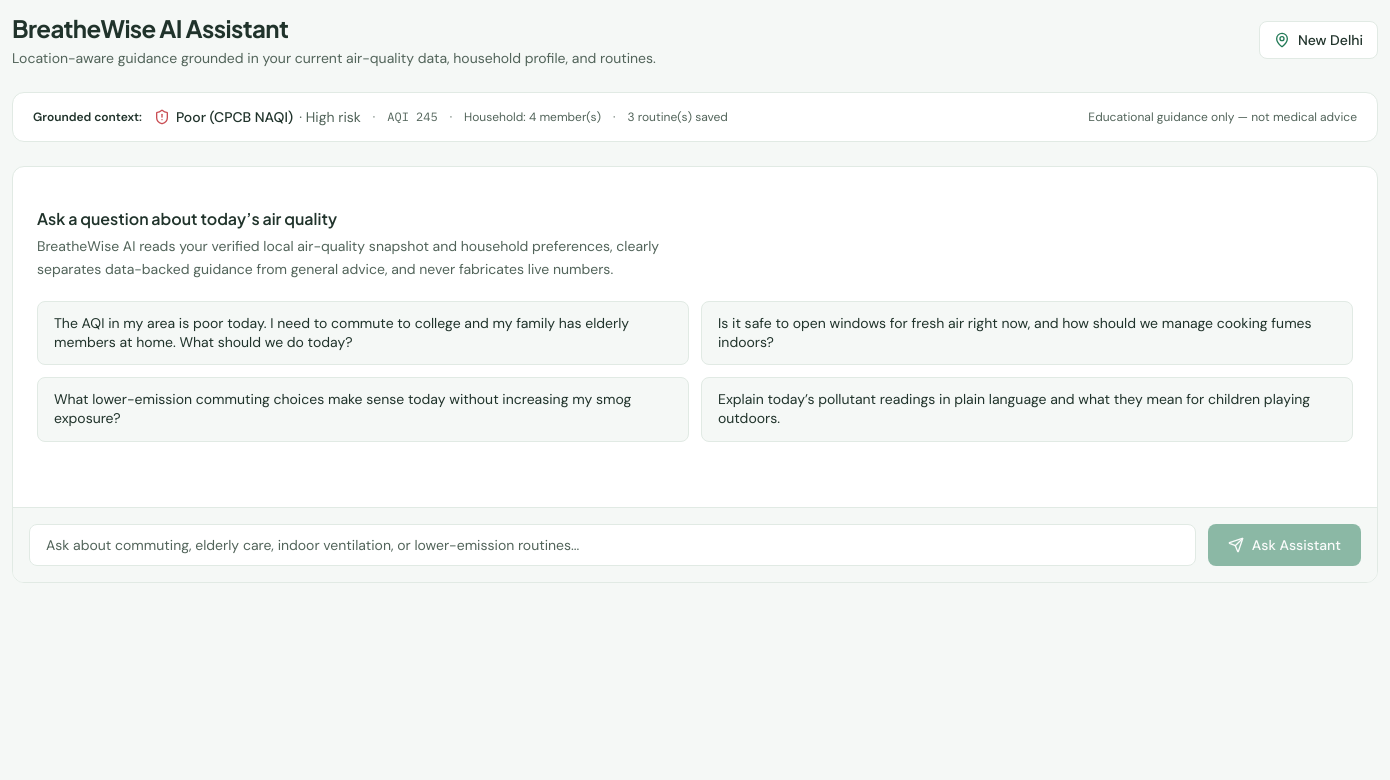
Page-level behavioral, accessibility, state, and error-boundary tests › AssistantPage enforces minimum query length, renders structured h3 headings without skipping h2, handles cancel/error, and clears chat
Check: the button "Ask Assistant" is disabled, box [1208,524,1361,566]
Type "Hi" into the field named "ask breathewise ai a question". click: (612, 545)
box: [29,524,1196,566]
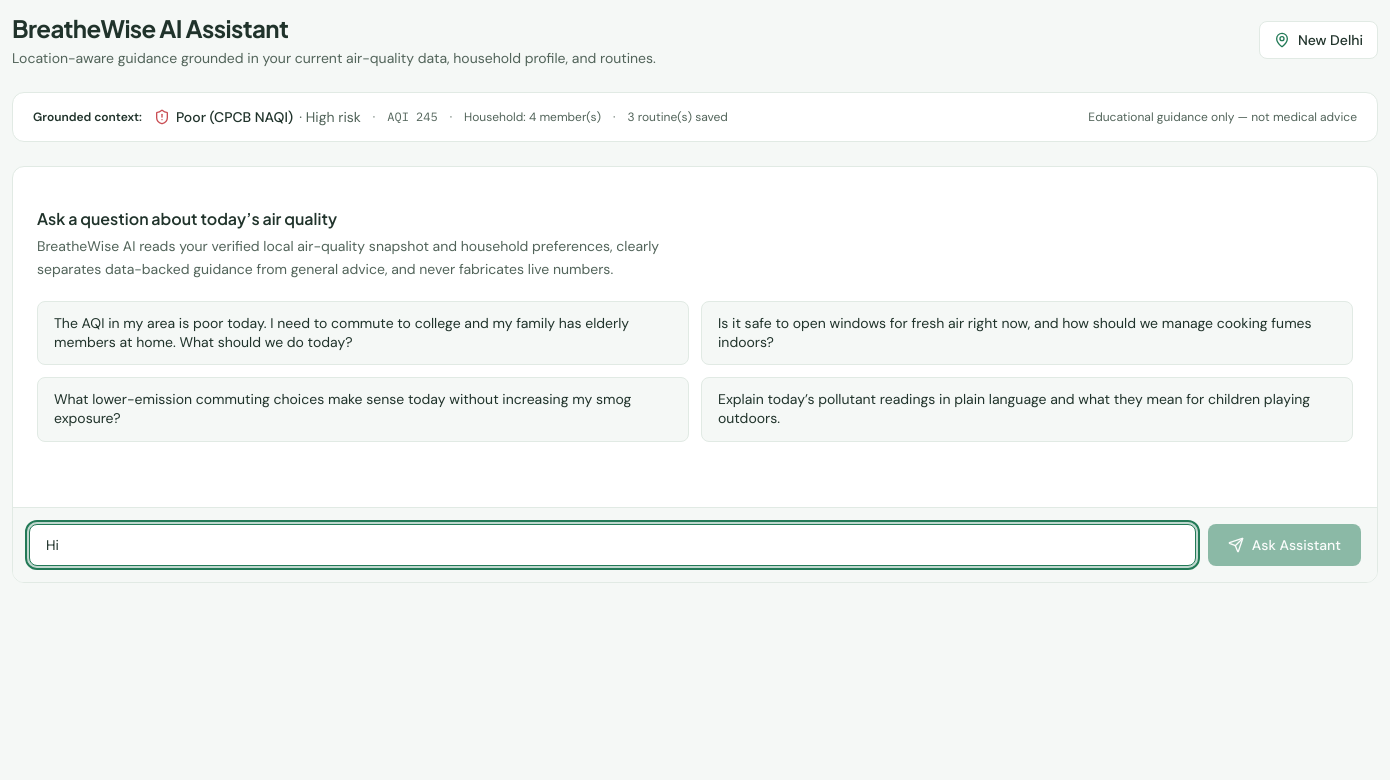
Check: the button "Ask Assistant" is disabled, box [1208,524,1361,566]
Replace the text in the field named "ask breathewise ai a question" with "Is it safe to commute by metro today?". click: (612, 545)
box: [29,524,1196,566]
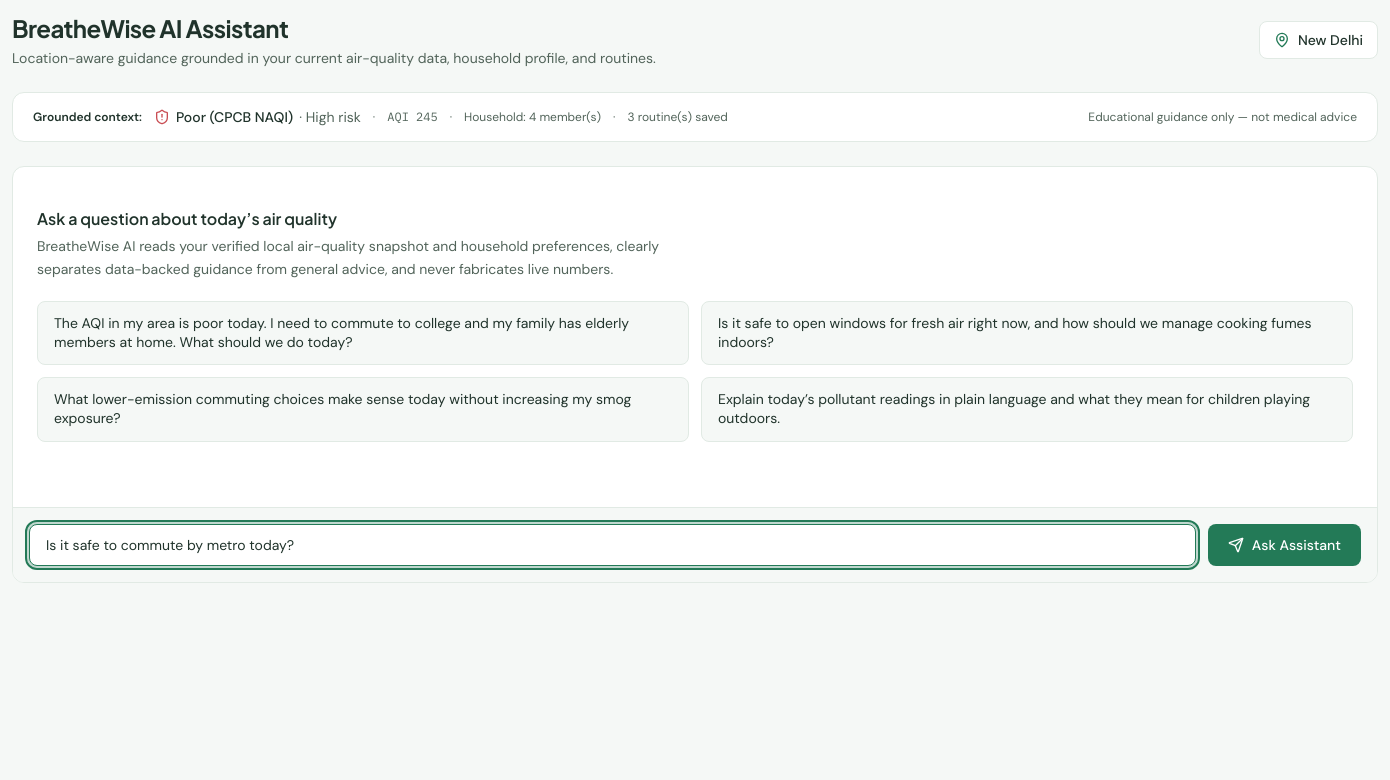
Check: the button "Ask Assistant" is enabled
Click the button "Ask Assistant". click: (1284, 545)
box: [1208,524,1361,566]
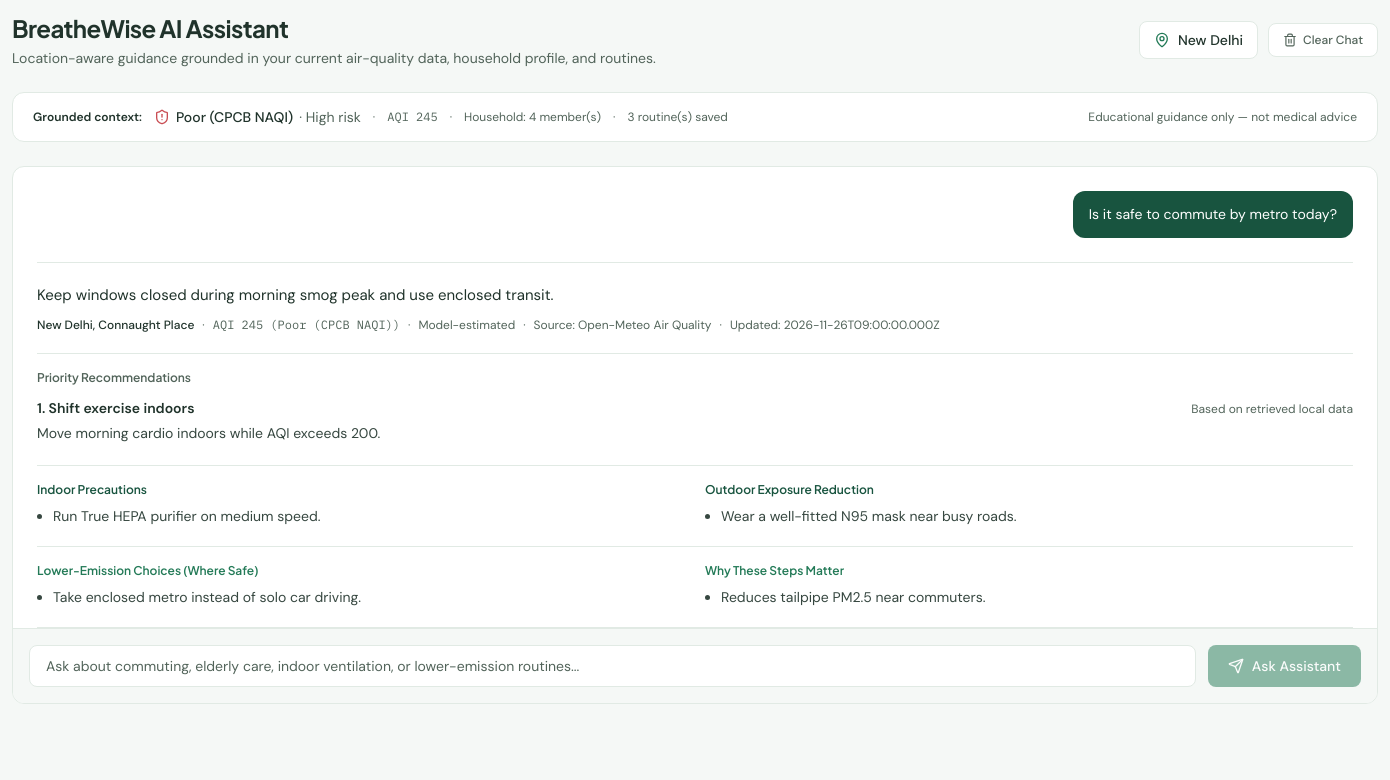
Check: the text "Keep windows closed during morning smog peak" is shown, box [37,285,554,305]
Check: the heading "Priority Recommendations" is shown, box [37,370,191,385]
// Error state renders an accessible alert
Type "What about evening walks?" into the field named "ask breathewise ai a question". click: (612, 666)
box: [29,645,1196,687]
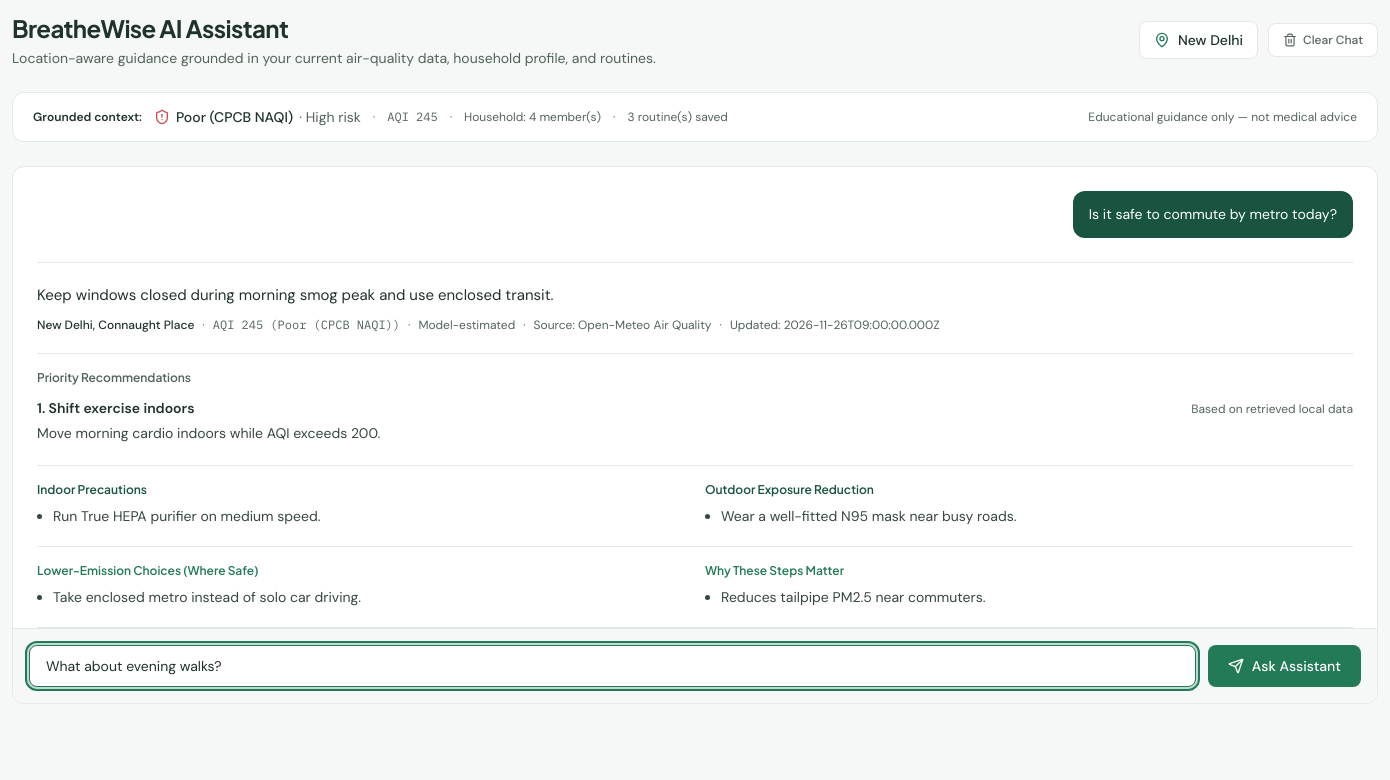
Click the button "Ask Assistant". click: (1284, 666)
box: [1208,645,1361,687]
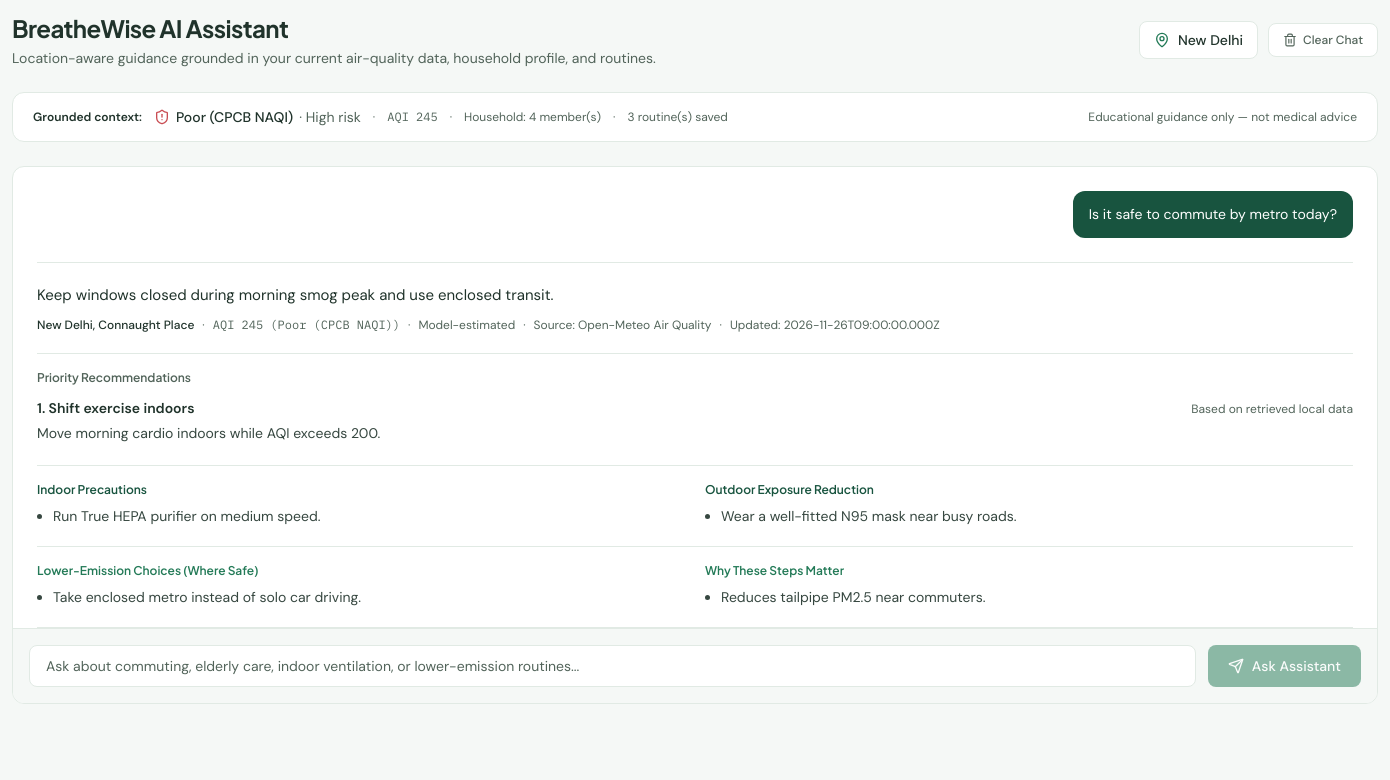
// Clear Chat resets conversation back to example prompts
Click the button "Clear Chat". click: (1323, 40)
box: [1268,23,1378,57]
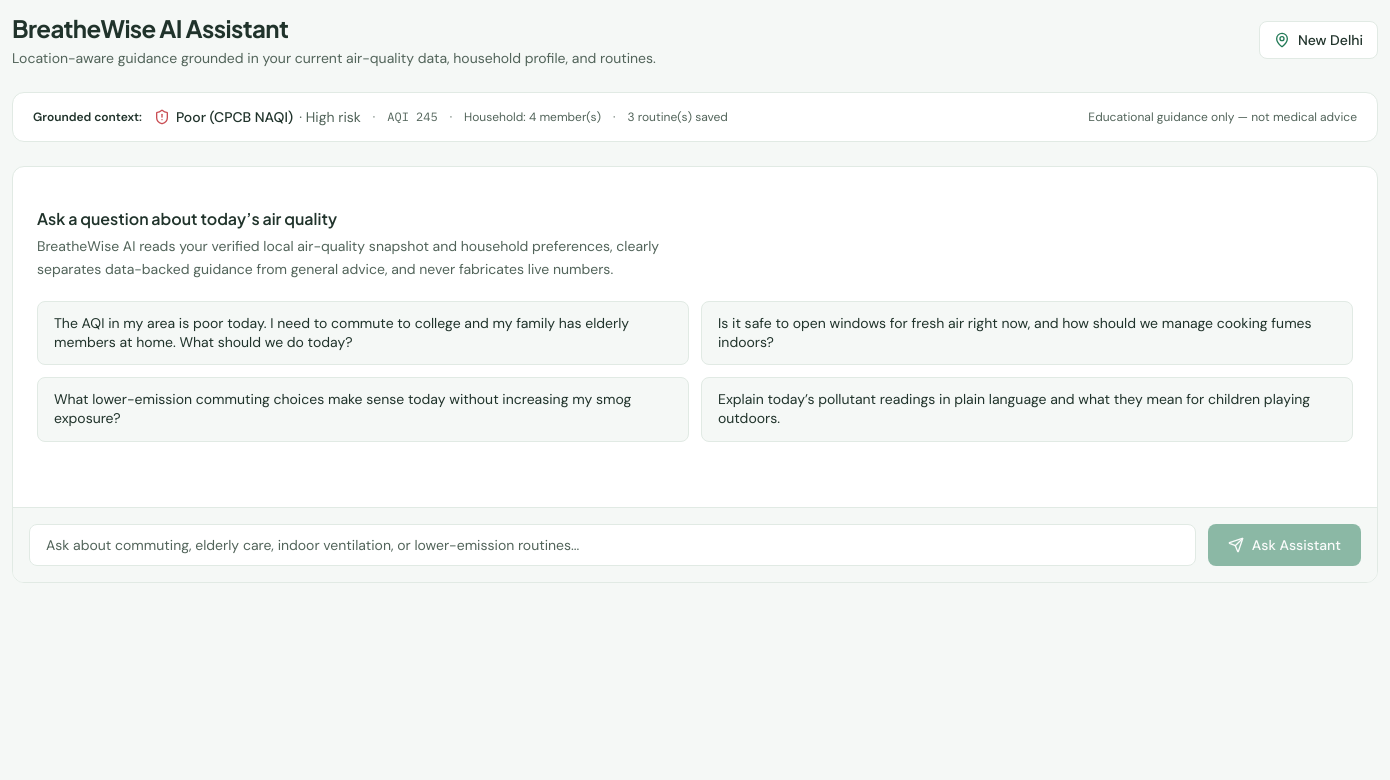
Check: the heading "Ask a question about today’s air quality" is shown, box [37,208,337,229]
